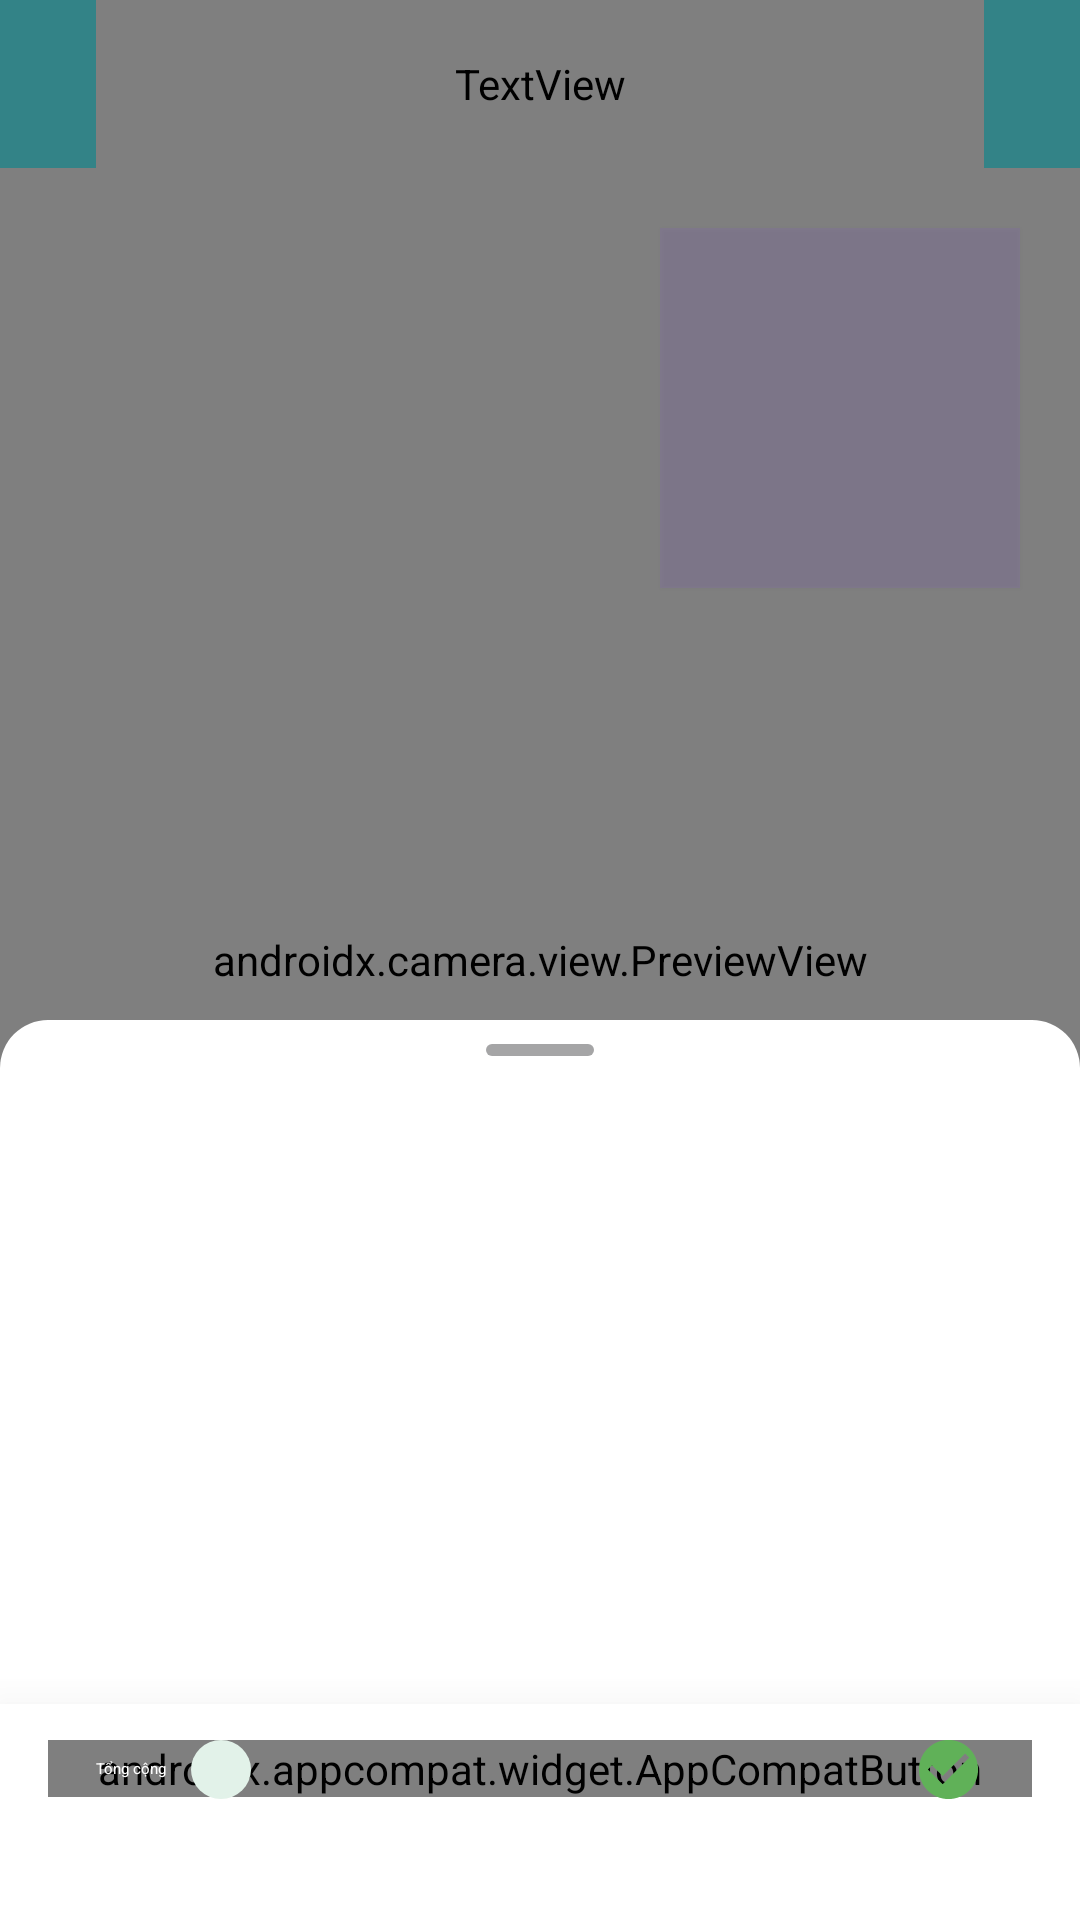

Locate icon controls on the screen. Image size 1080 x 1920, boxes as (x1, y1, x2, y2).
check circle: (912, 1740, 984, 1799)
